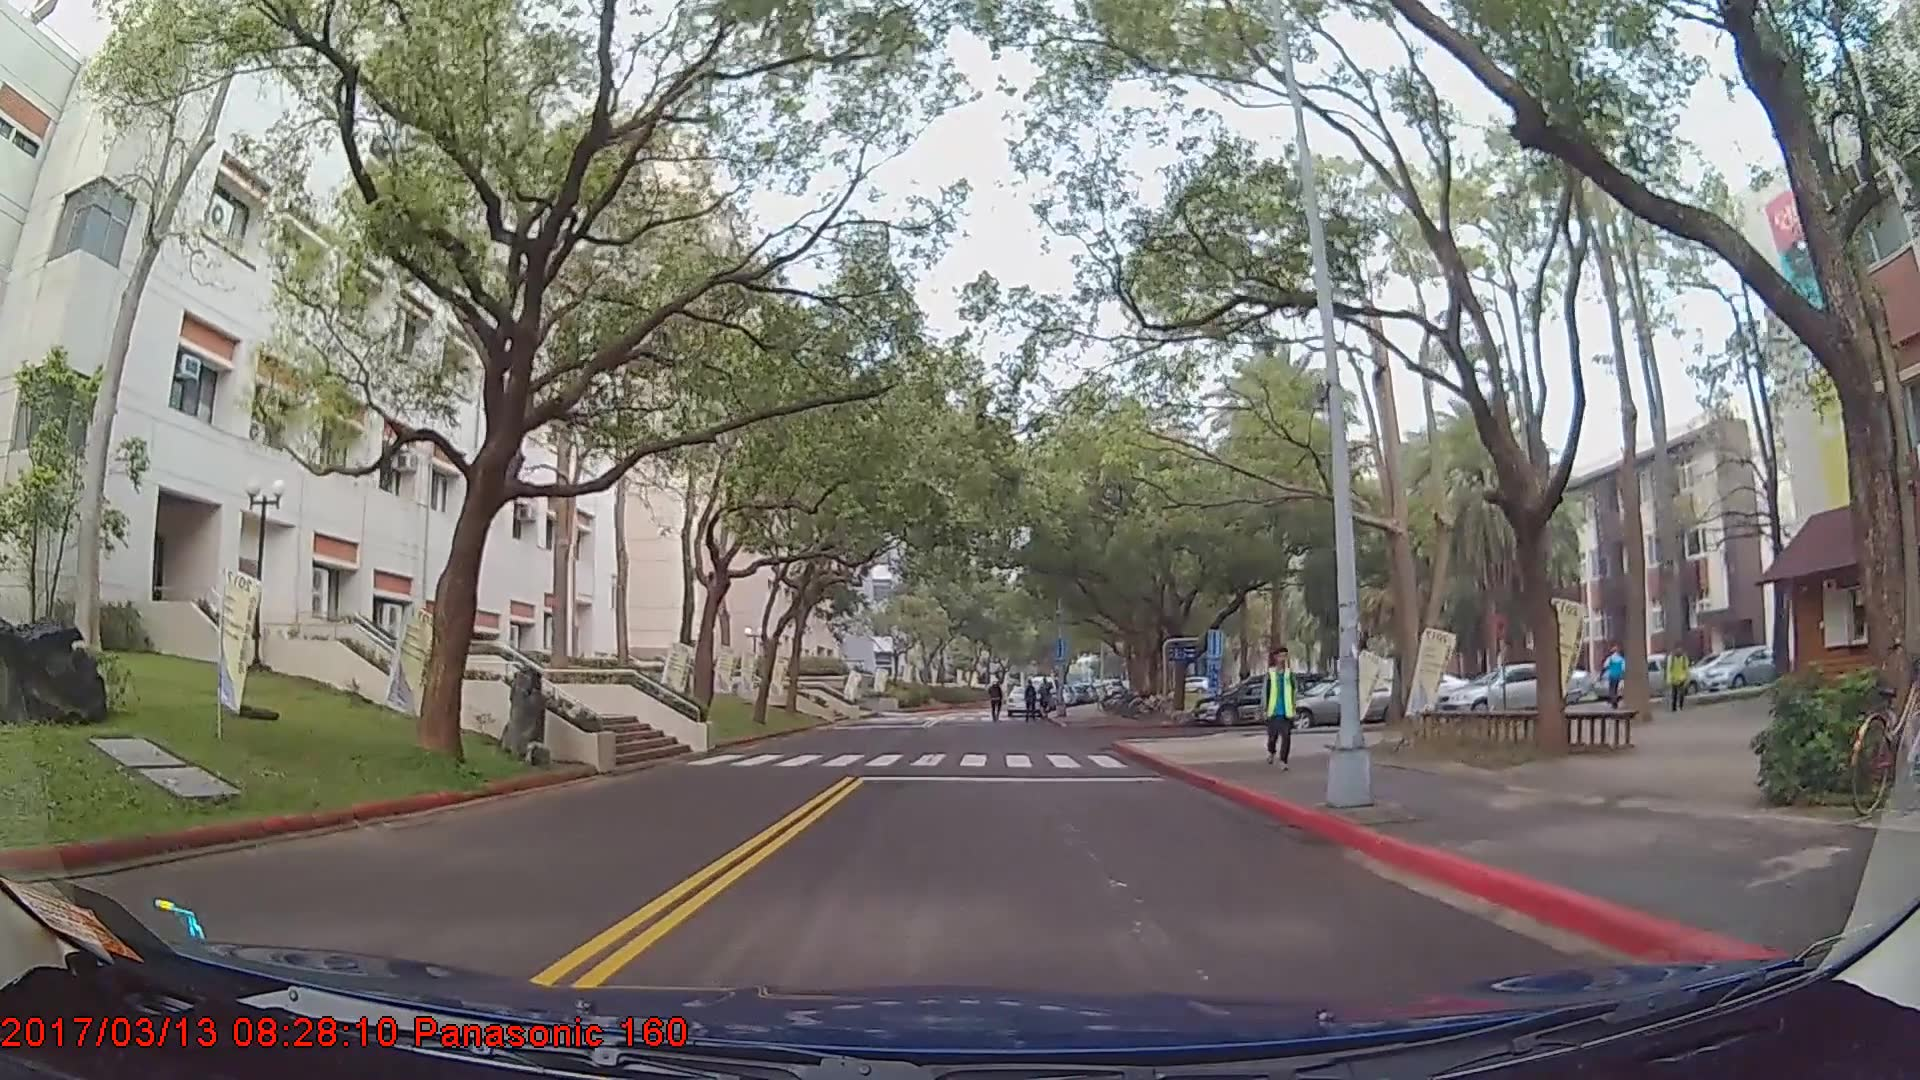pedestrian: (1262, 651, 1304, 779), (1602, 641, 1636, 717), (1666, 646, 1690, 717), (1022, 681, 1042, 725)
vehicle: (1437, 660, 1574, 720), (1284, 675, 1422, 727), (1197, 673, 1319, 728), (1697, 645, 1788, 693)
